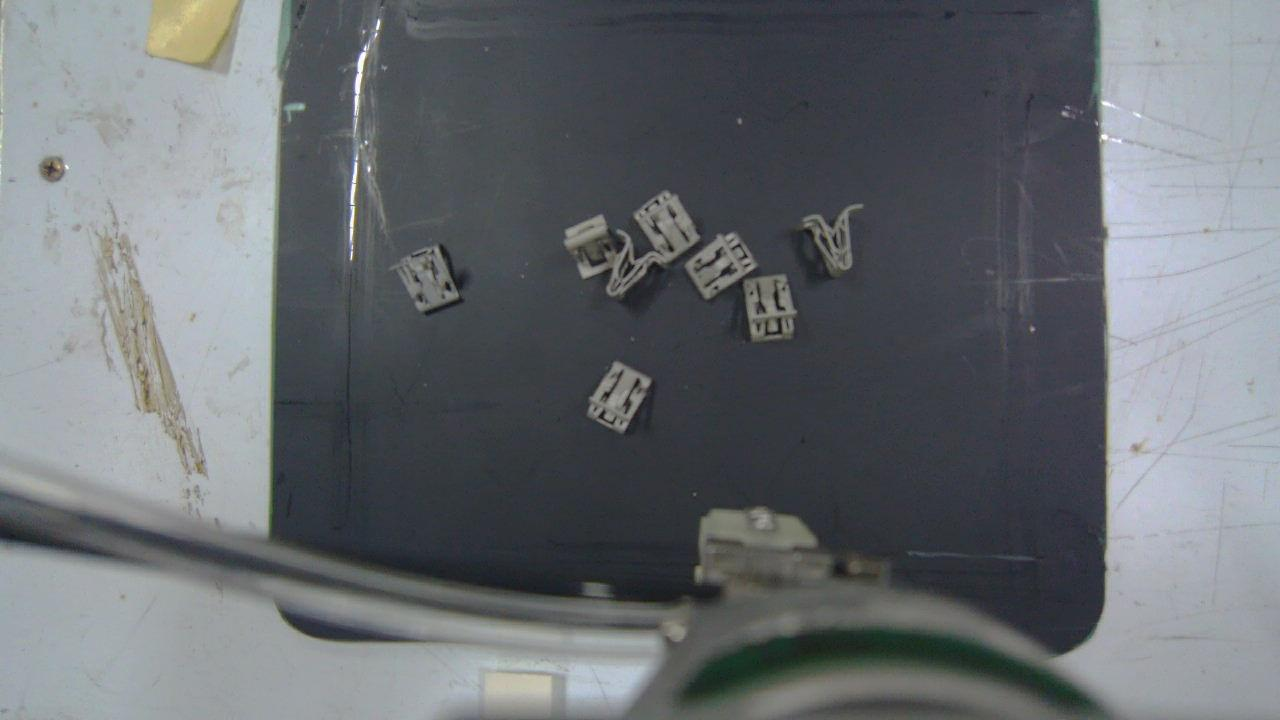ng: (685, 229, 758, 299), (586, 360, 654, 435), (389, 243, 459, 312), (632, 190, 696, 260), (605, 229, 667, 298), (803, 208, 864, 277), (745, 273, 797, 341), (564, 215, 614, 279)
